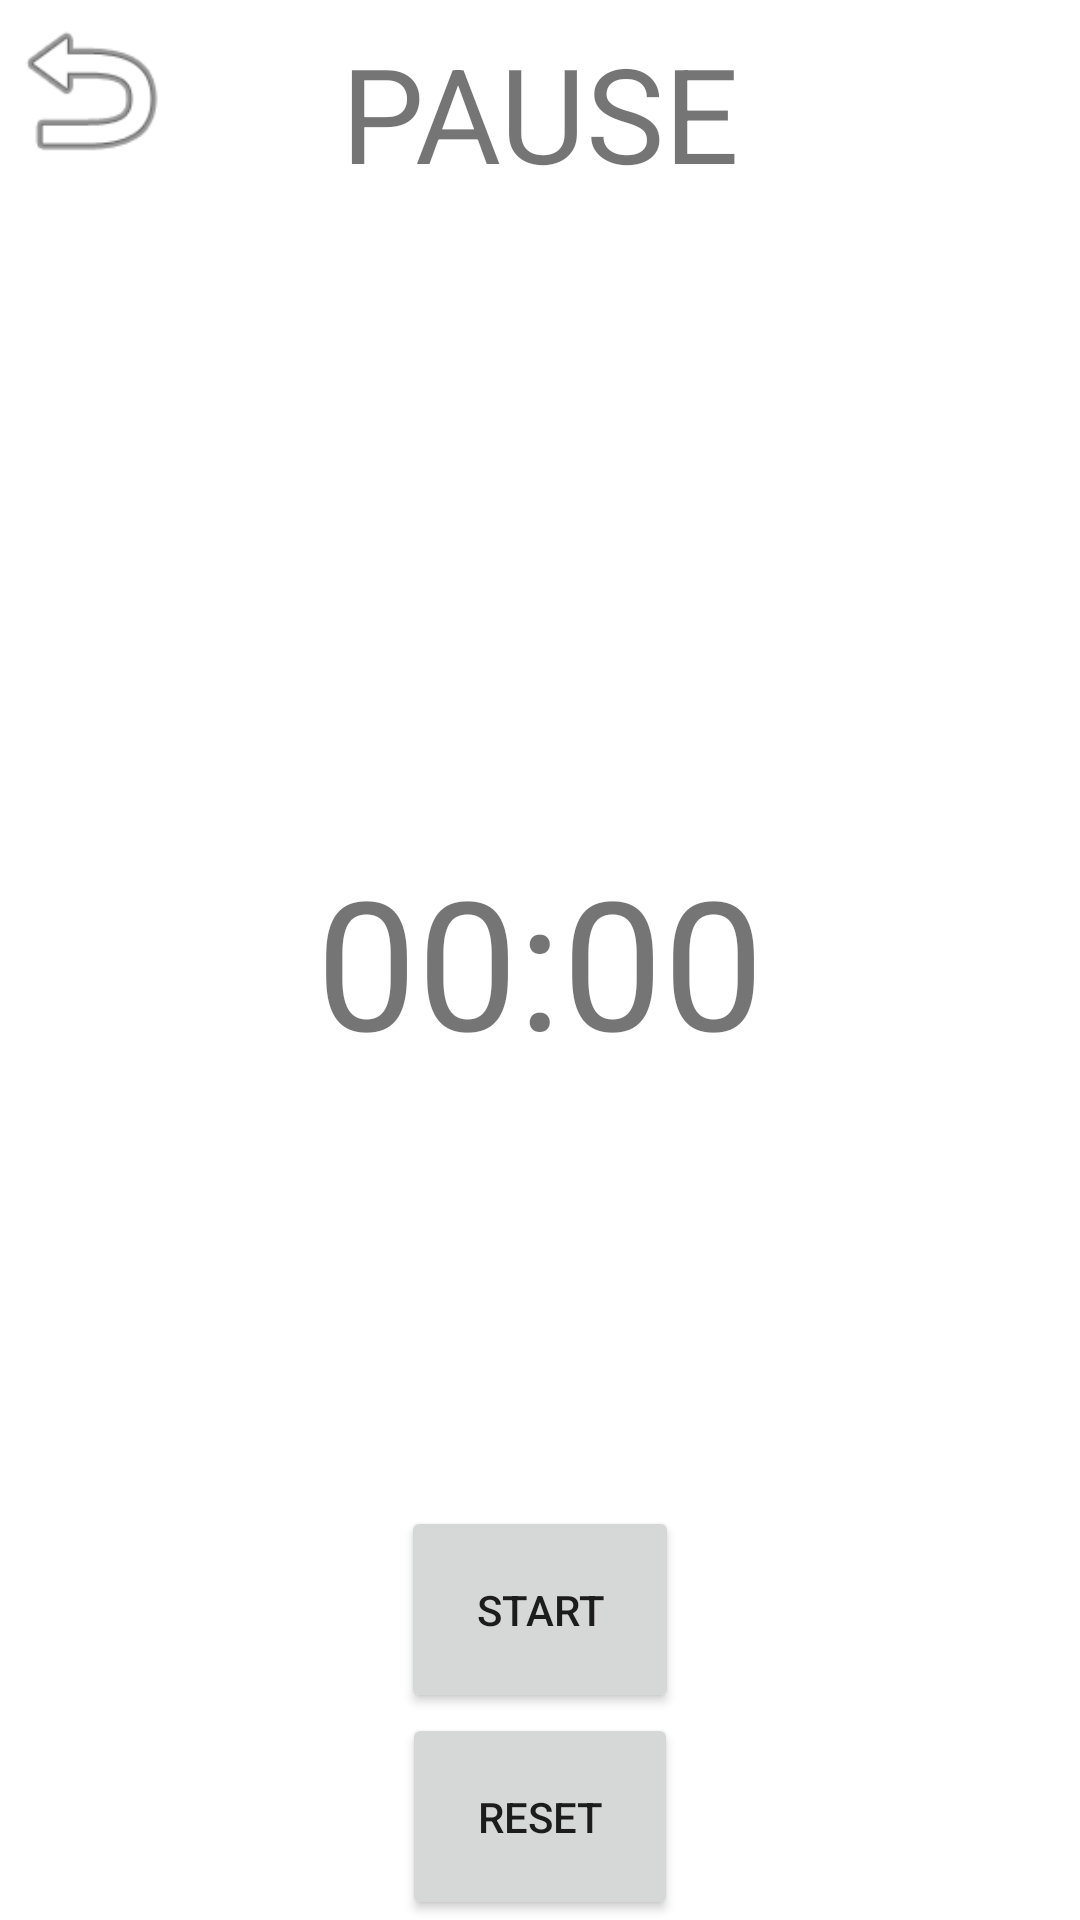

Screen size 1080 × 1920. Icon name, then its center in pixels as (x=x, y=y):
revert: (x=92, y=91)
